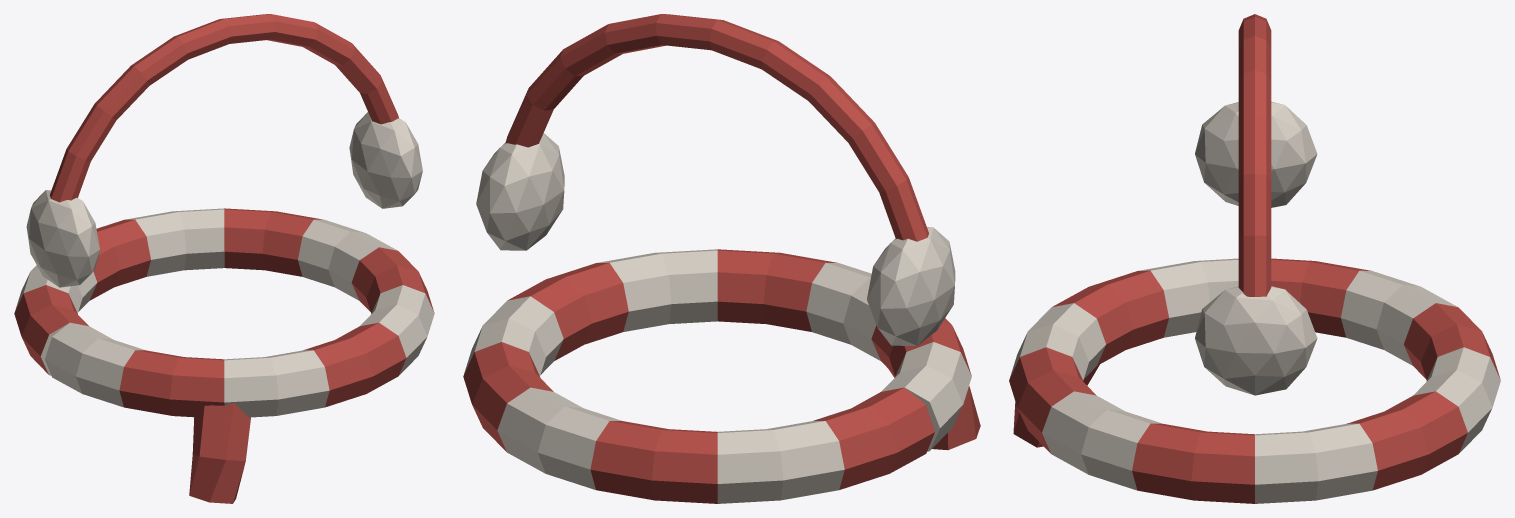
File: goo_jar_hat@winter.fbx
3 views of the same model, side by side, from view 1: azimuth 30°, elevation 25°; view 2: azimuth 150°, elevation 25°; view 3: azimuth 270°, elevation 25° (orthographic). The views are drawn at different scales.
Visible parts, largest first — view 1: goo_jar_hat; view 2: goo_jar_hat; view 3: goo_jar_hat.
Part boxes in pixels (bbox=[...]): goo_jar_hat: bbox=[14, 14, 434, 503]; goo_jar_hat: bbox=[463, 14, 980, 503]; goo_jar_hat: bbox=[1009, 14, 1500, 503].
Bounding box in the file's own units: 2.19 × 2.18 × 2.12.
